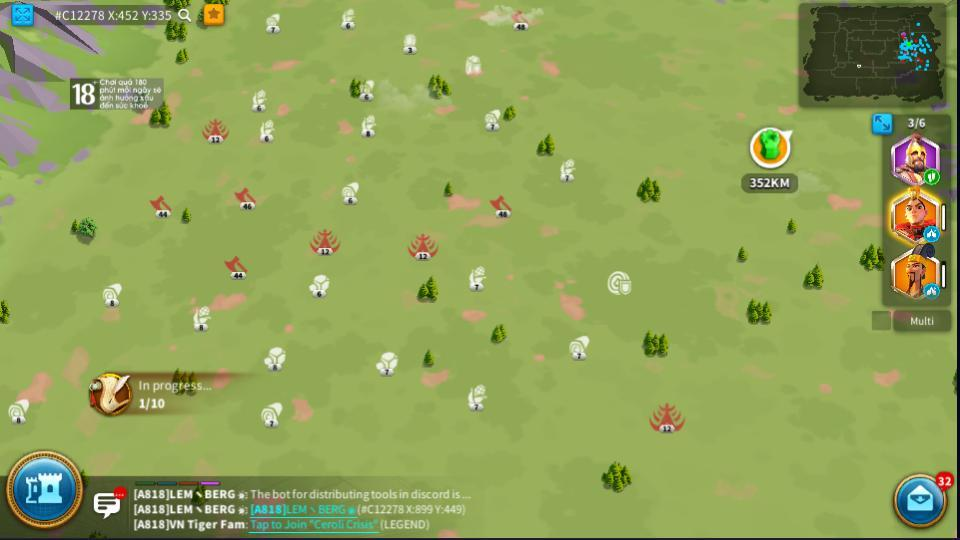gem-z-out: (7, 400, 30, 423), (401, 34, 417, 53)
march_idle: (923, 284, 939, 297), (923, 227, 938, 239)
march_marching: (923, 170, 938, 184)
